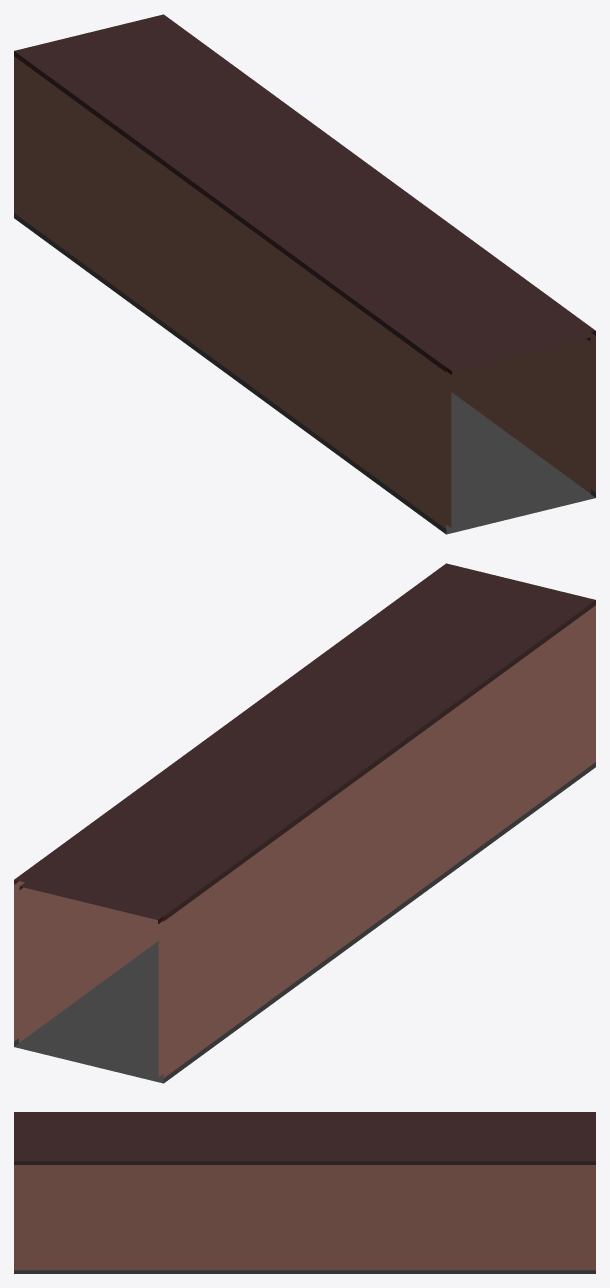
The model's file is CouloirInverse.fbx.
3 views of the same model, one above another, from view 1: azimuth 30°, elevation 25°; view 2: azimuth 150°, elevation 25°; view 3: azimuth 270°, elevation 25° (orthographic). The views are drawn at different scales.
Visible parts, largest first — view 1: CouloirInverse; view 2: CouloirInverse; view 3: CouloirInverse.
Boxes of the visible parts, x1,y1,x2,y2 form: CouloirInverse: (14, 14, 595, 534); CouloirInverse: (14, 563, 595, 1083); CouloirInverse: (14, 1112, 595, 1273).
Bounding box in the file's own units: 400 × 427 × 2000.
